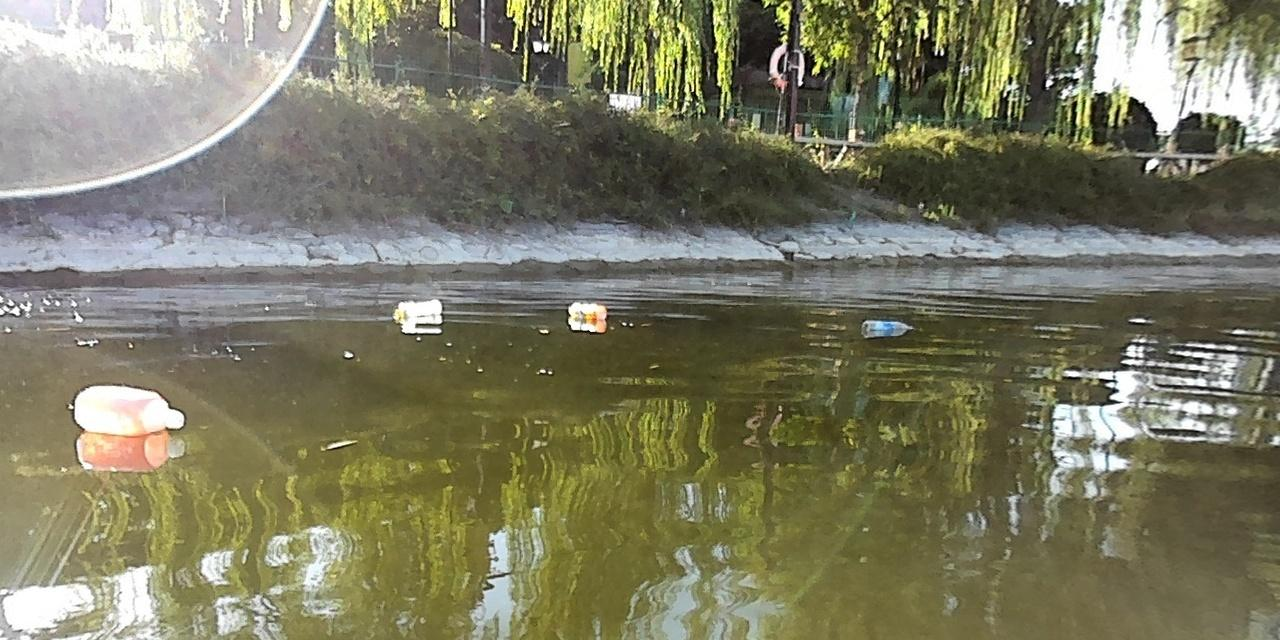bottle: (68, 379, 187, 435), (389, 298, 445, 320), (858, 316, 914, 335), (565, 299, 609, 321)
